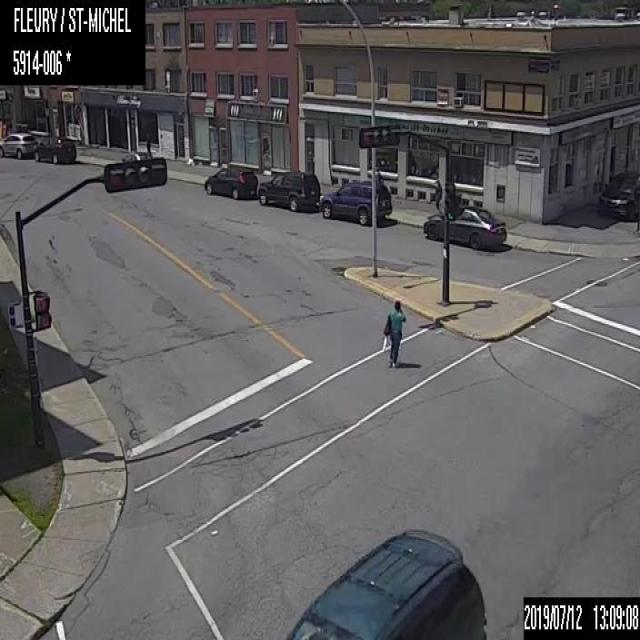pedestrian: (382, 297, 406, 367), (144, 125, 151, 156)
vehicle: (283, 526, 485, 638), (423, 203, 505, 249), (316, 177, 392, 224), (256, 168, 320, 212), (596, 169, 639, 221), (203, 163, 259, 199), (34, 130, 75, 162), (0, 130, 38, 158)
